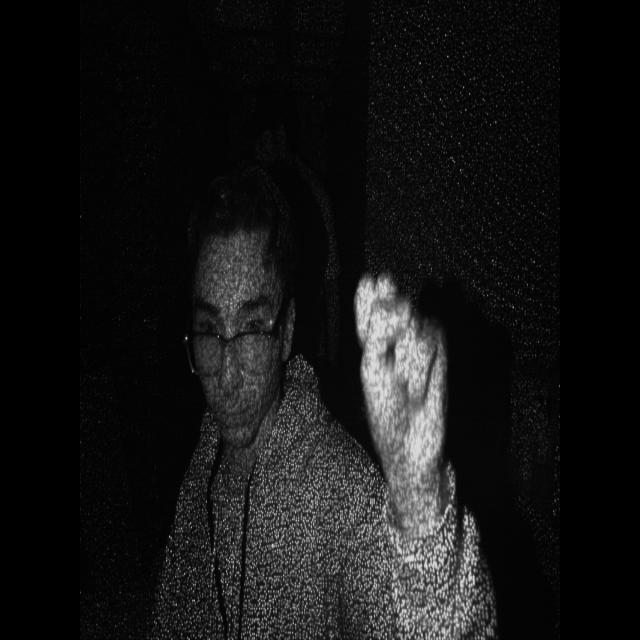S: (343, 254, 459, 493)
